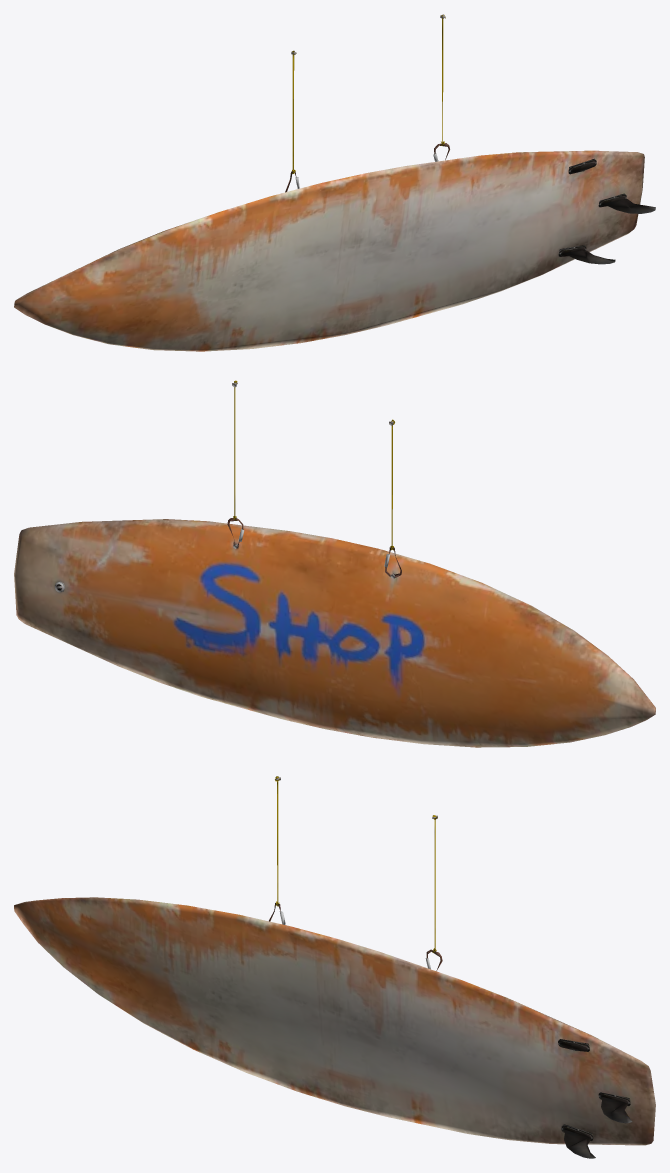
Rendered from surfboard_sign.glb.
3 views of the same model, one above another, from view 1: azimuth 30°, elevation 25°; view 2: azimuth 150°, elevation 25°; view 3: azimuth 330°, elevation 25° (orthographic). The views are drawn at different scales.
Visible parts, largest first — view 1: surfboard_sign; view 2: surfboard_sign; view 3: surfboard_sign.
Part boxes in pixels (x1=…): surfboard_sign: x1=14, y1=14, x2=655, y2=351; surfboard_sign: x1=14, y1=380, x2=655, y2=747; surfboard_sign: x1=14, y1=776, x2=655, y2=1158.
Size of the model in its own units: 2.85 by 1.34 by 0.2551.
1 material, 1 textured.
